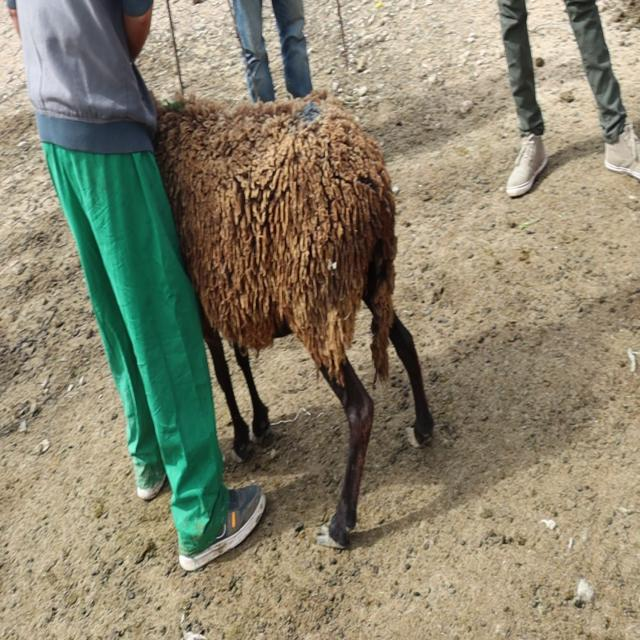Score_1: (154, 91, 434, 548)
